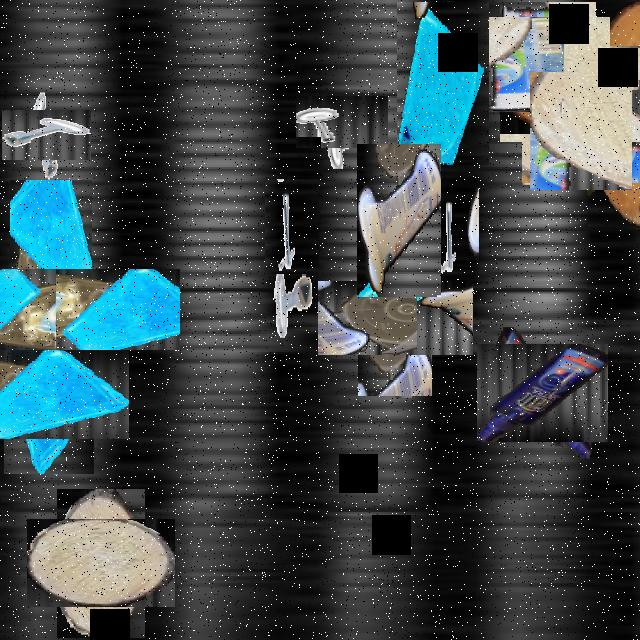glass: (397, 2, 489, 165), (0, 332, 111, 457)
metal: (306, 86, 378, 159), (265, 180, 319, 276), (11, 100, 81, 170), (429, 188, 479, 278), (272, 263, 314, 338)
plastic: (0, 224, 136, 394), (484, 336, 600, 450), (338, 260, 452, 376), (357, 144, 441, 297), (493, 9, 603, 119)
wood: (42, 504, 160, 623), (543, 45, 640, 185), (526, 76, 636, 187)
